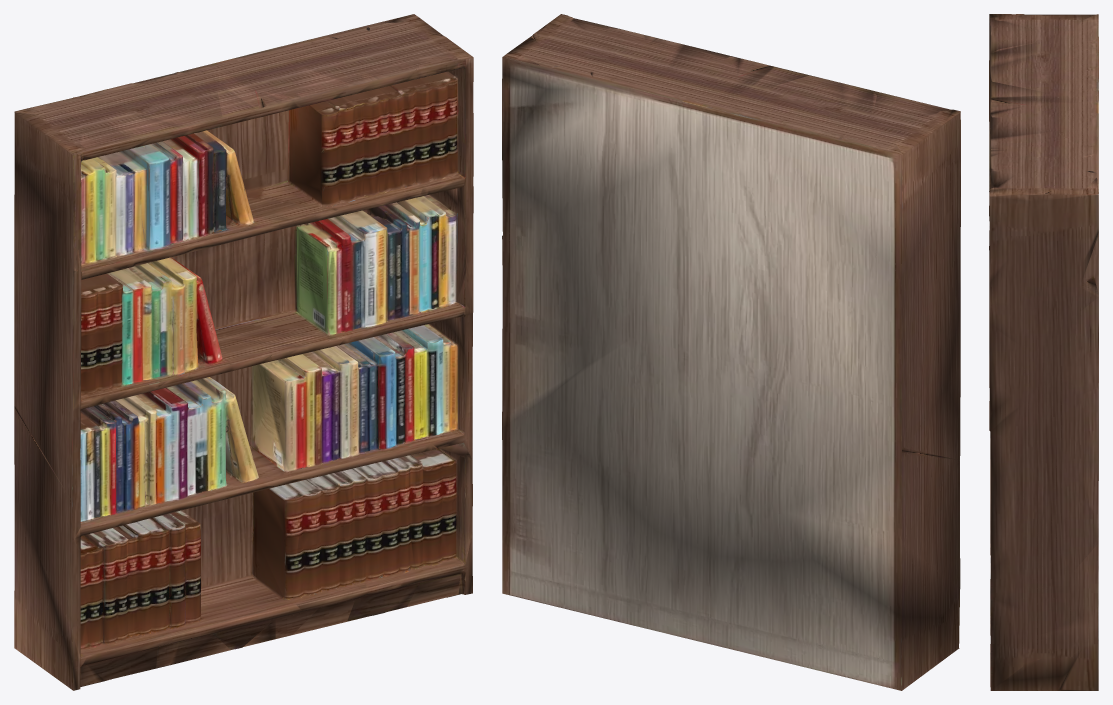
File: bookshelf.glb
3 views of the same model, side by side, from view 1: azimuth 30°, elevation 25°; view 2: azimuth 150°, elevation 25°; view 3: azimuth 270°, elevation 25° (orthographic). The views are drawn at different scales.
Parts seen in each view (by area): view 1: Mesh_0; view 2: Mesh_0; view 3: Mesh_0.
Boxes of the visible parts, x1,y1,x2,y2 form: Mesh_0: (14, 14, 473, 690); Mesh_0: (502, 14, 960, 690); Mesh_0: (989, 14, 1098, 690).
Bounding box in the file's own units: 1.49 × 1.91 × 0.3828.
Materials: 1 (1 with a texture image).
